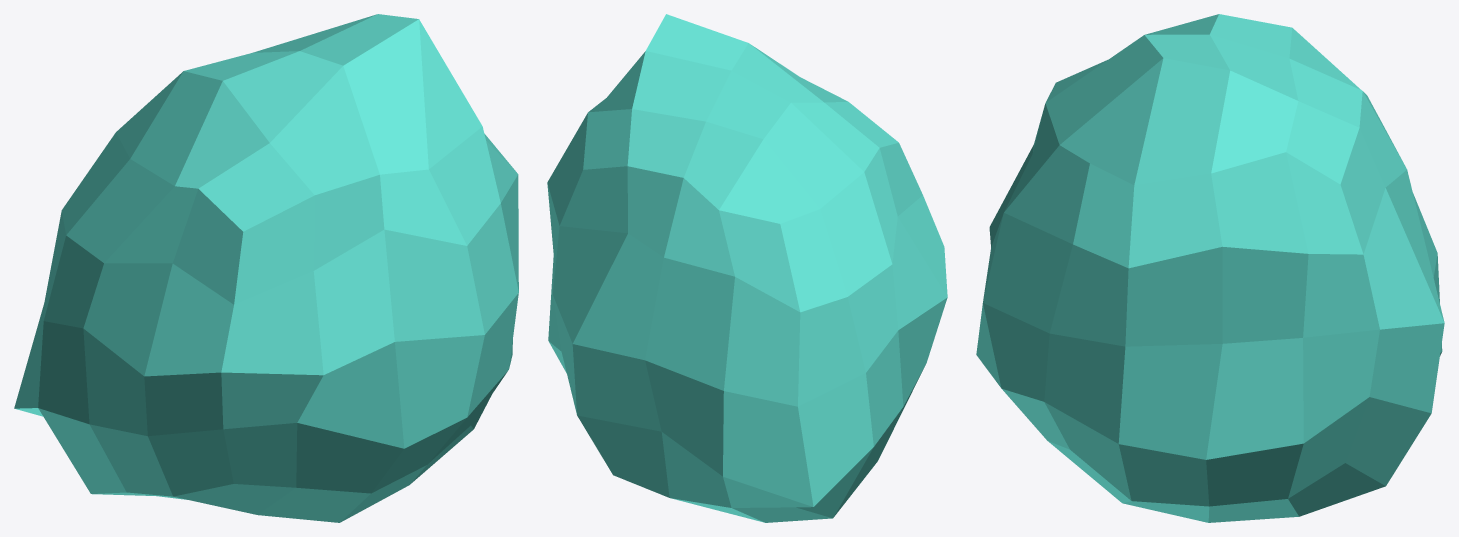
The model's file is Astroid 1.fbx.
3 views of the same model, side by side, from view 1: azimuth 30°, elevation 25°; view 2: azimuth 150°, elevation 25°; view 3: azimuth 270°, elevation 25° (orthographic). The views are drawn at different scales.
Visible parts, largest first — view 1: Asdtroid 1; view 2: Asdtroid 1; view 3: Asdtroid 1.
Boxes of the visible parts, x1,y1,x2,y2 form: Asdtroid 1: [14, 14, 518, 522]; Asdtroid 1: [547, 14, 947, 522]; Asdtroid 1: [976, 14, 1444, 522].
Size of the model in its own units: 46.48 by 53.95 by 45.47.
